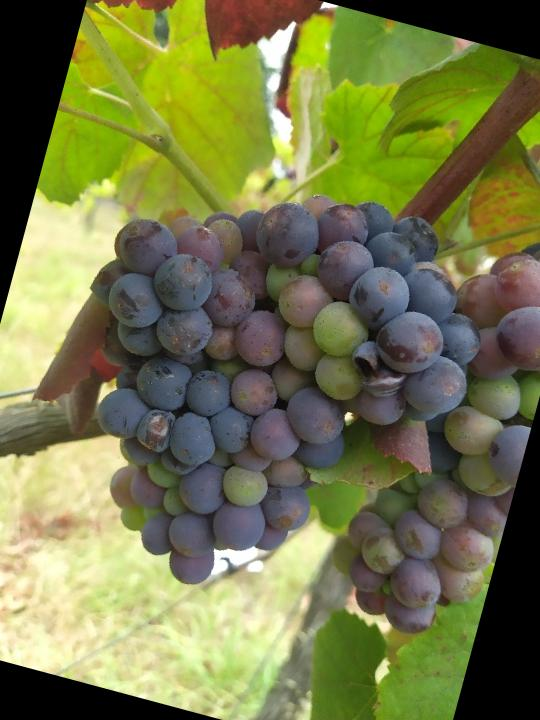grape: (19, 138, 513, 648)
